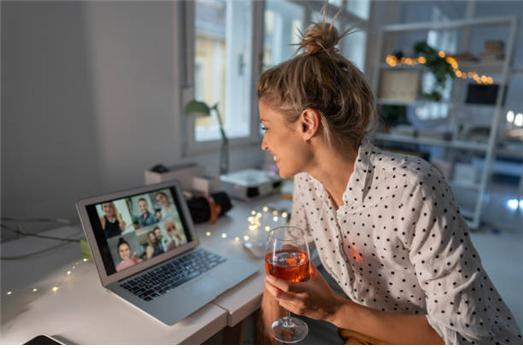alcohol: (263, 226, 314, 345)
